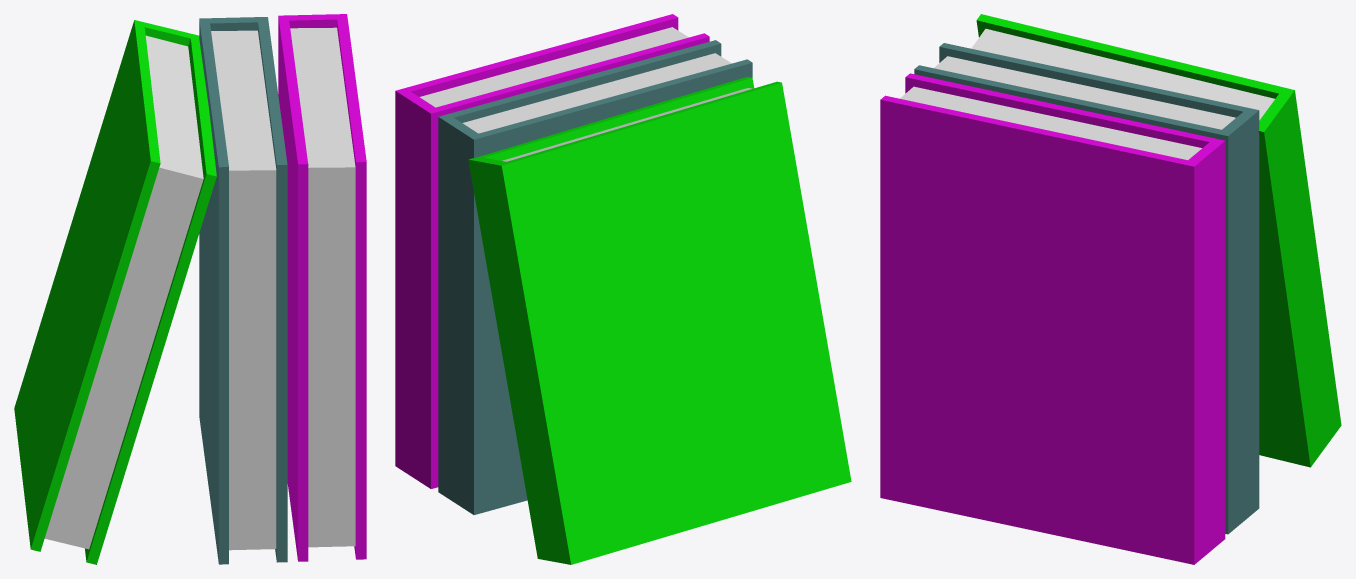
File: escritorio_libros.fbx
The picture shows the model from 3 angles, left to right: view 1: azimuth 30°, elevation 25°; view 2: azimuth 150°, elevation 25°; view 3: azimuth 270°, elevation 25°; orthographic projection. The views are drawn at different scales.
Parts seen in each view (by area): view 1: escritorio_libro02, escritorio_libro03, escritorio_libro01; view 2: escritorio_libro02, escritorio_libro03, escritorio_libro01; view 3: escritorio_libro01, escritorio_libro02, escritorio_libro03.
Boxes of the visible parts, x1=… form: escritorio_libro02: x1=14, y1=20, x2=216, y2=564; escritorio_libro03: x1=199, y1=17, x2=287, y2=564; escritorio_libro01: x1=278, y1=14, x2=366, y2=561; escritorio_libro02: x1=468, y1=77, x2=851, y2=564; escritorio_libro03: x1=438, y1=40, x2=752, y2=514; escritorio_libro01: x1=395, y1=14, x2=709, y2=488; escritorio_libro01: x1=880, y1=73, x2=1225, y2=564; escritorio_libro02: x1=971, y1=14, x2=1341, y2=467; escritorio_libro03: x1=914, y1=43, x2=1259, y2=534.
Bounding box in the file's own units: 0.1403 × 0.1365 × 0.14.
